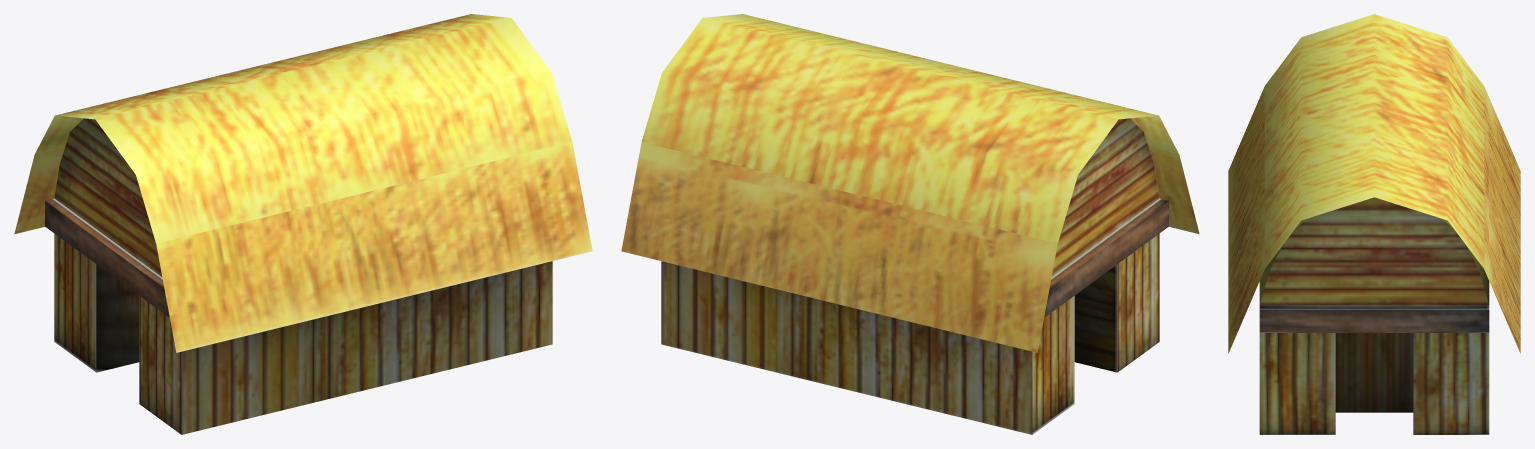
File: storage.FBX
The picture shows the model from 3 angles, left to right: view 1: azimuth 30°, elevation 25°; view 2: azimuth 150°, elevation 25°; view 3: azimuth 270°, elevation 25°; orthographic projection. The views are drawn at different scales.
Parts seen in each view (by area): view 1: Part01; view 2: Part01; view 3: Part01.
Part boxes in pixels (left/top/right/bottom): Part01: left=14, top=14, right=592, bottom=434; Part01: left=621, top=14, right=1199, bottom=434; Part01: left=1228, top=14, right=1520, bottom=434.
Size of the model in its own units: 44.08 by 29.72 by 27.77.
Materials: 1 (1 with a texture image).
